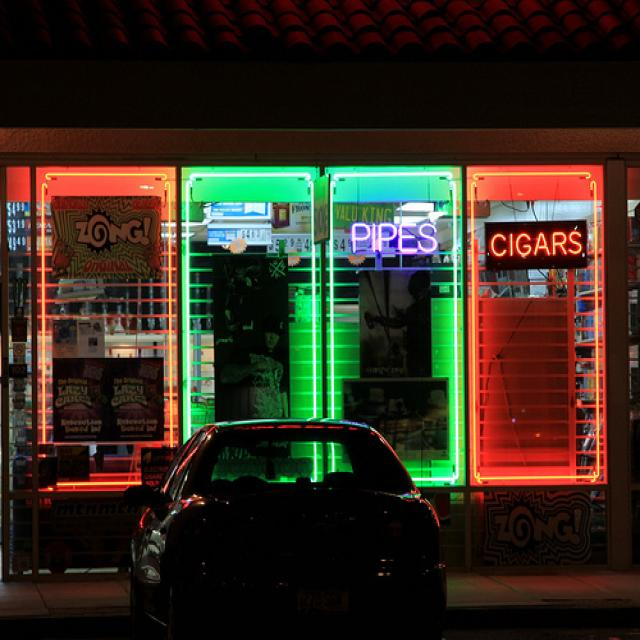Car: (108, 362, 504, 640)
